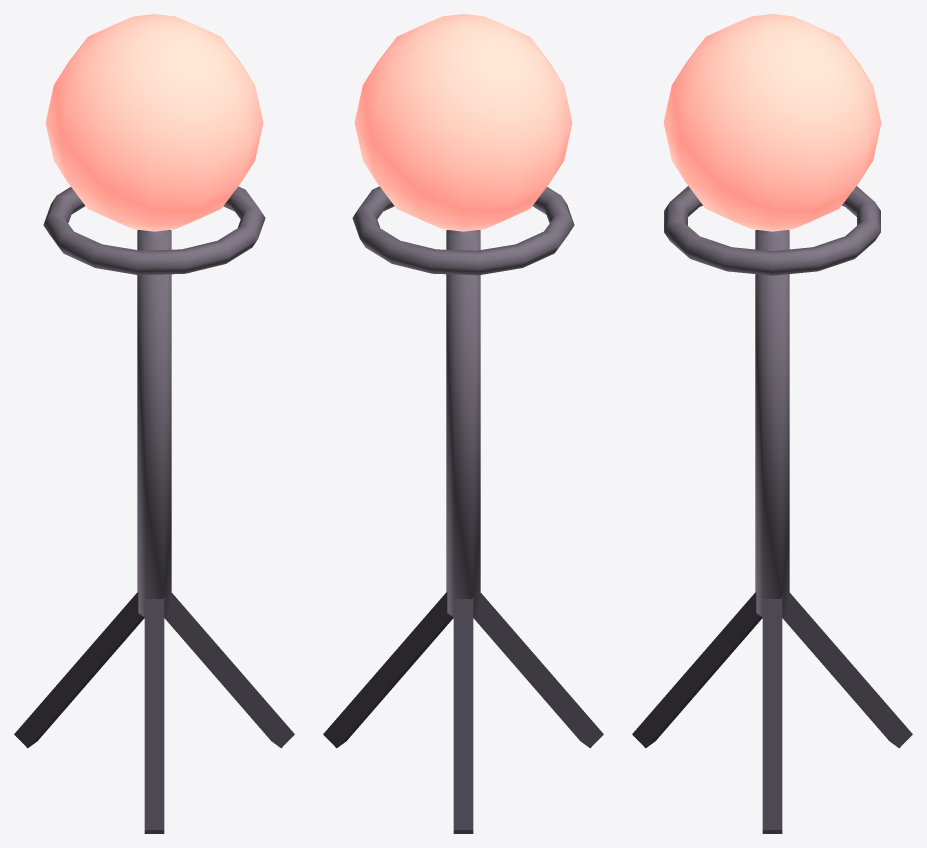
Rendered from v_ab_orb_lamp.glb.
3 views of the same model, side by side, from view 1: azimuth 30°, elevation 25°; view 2: azimuth 150°, elevation 25°; view 3: azimuth 270°, elevation 25° (orthographic).
Visible parts, largest first — view 1: OrbLamp; view 2: OrbLamp; view 3: OrbLamp.
Boxes of the visible parts, x1,y1,x2,y2 form: OrbLamp: (14, 14, 294, 833); OrbLamp: (323, 14, 603, 833); OrbLamp: (632, 14, 912, 833).
Size of what is drawn, in the model's own units: 0.541 by 1.67 by 0.5673.
